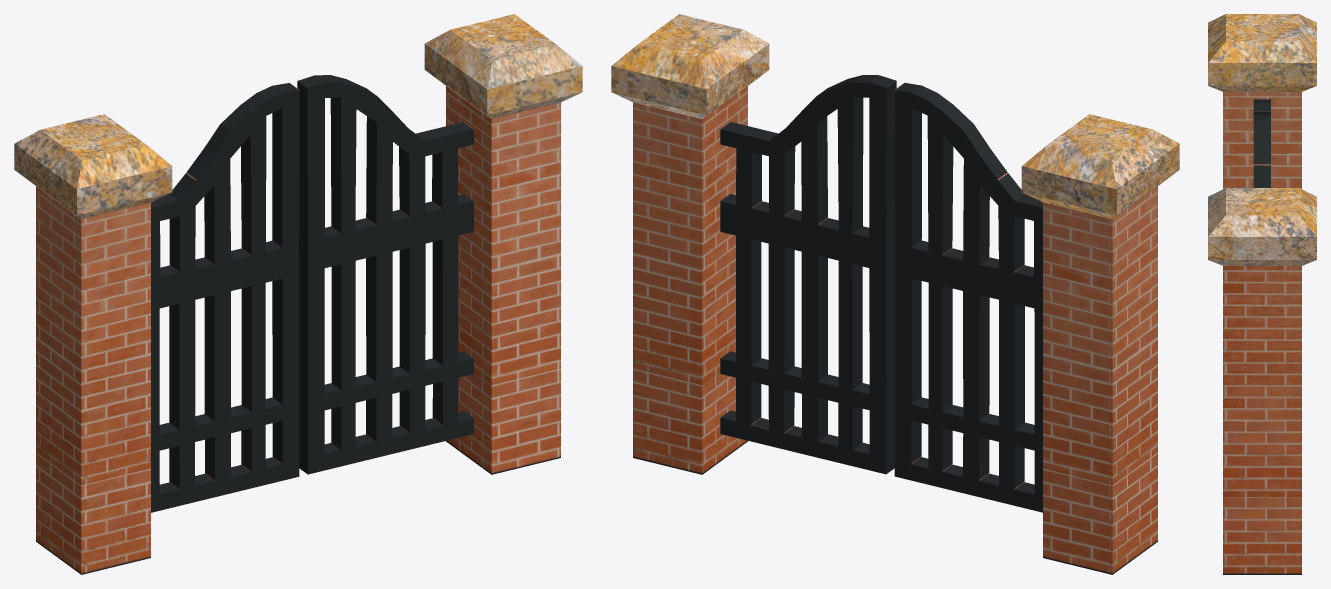
Rendered from Porton_Finished_001.fbx.
3 renders of one model, left to right at view 1: azimuth 30°, elevation 25°; view 2: azimuth 150°, elevation 25°; view 3: azimuth 270°, elevation 25°, orthographic. The views are drawn at different scales.
Parts seen in each view (by area): view 1: Cube; view 2: Cube; view 3: Cube.
Boxes of the visible parts, x1,y1,x2,y2 form: Cube: (14,14,582,574); Cube: (611,14,1179,574); Cube: (1208,14,1316,574).
Bounding box in the file's own units: 401 × 315 × 86.03.
